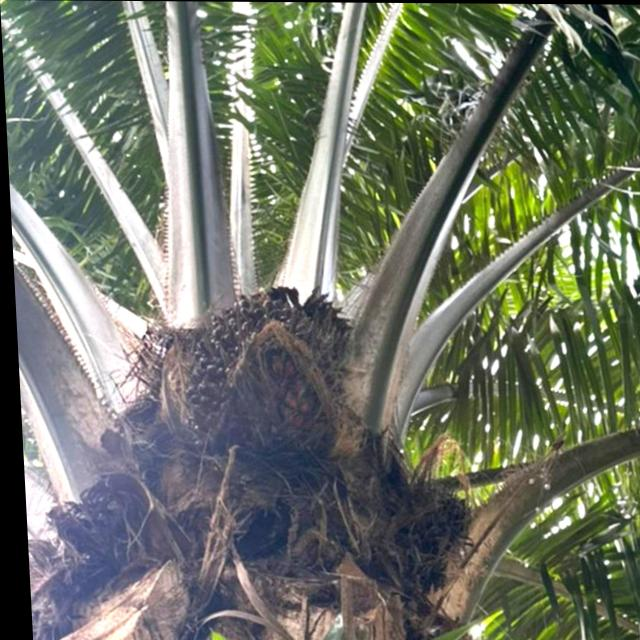ripe: (151, 268, 373, 472)
